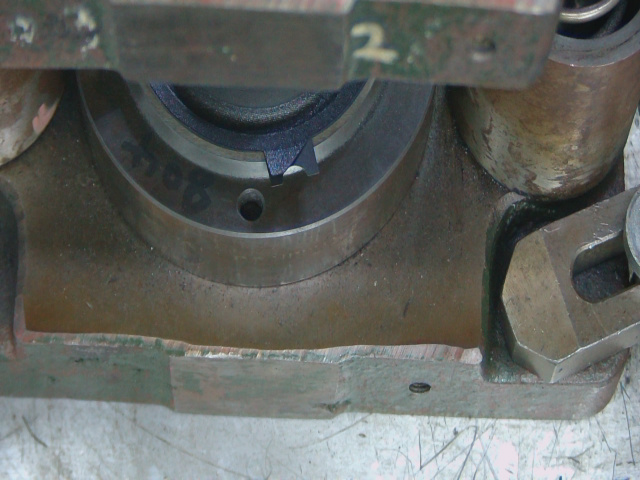NG: (264, 138, 328, 194)
